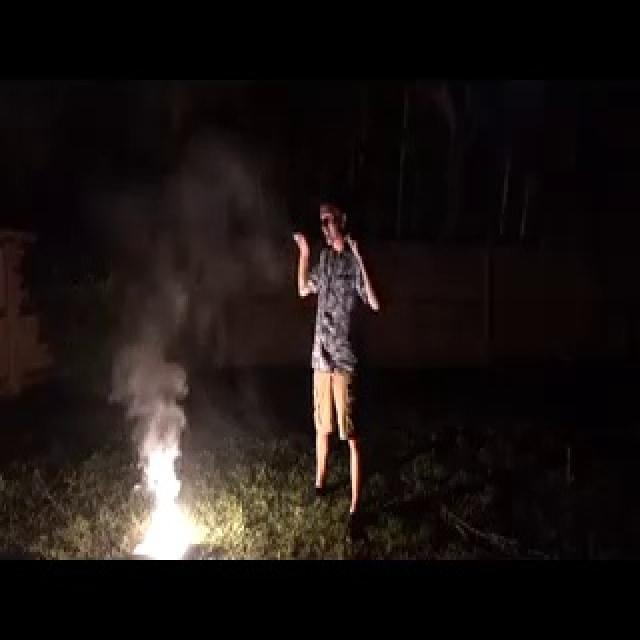Fire: (129, 450, 201, 560)
Smoke: (106, 142, 278, 439)
